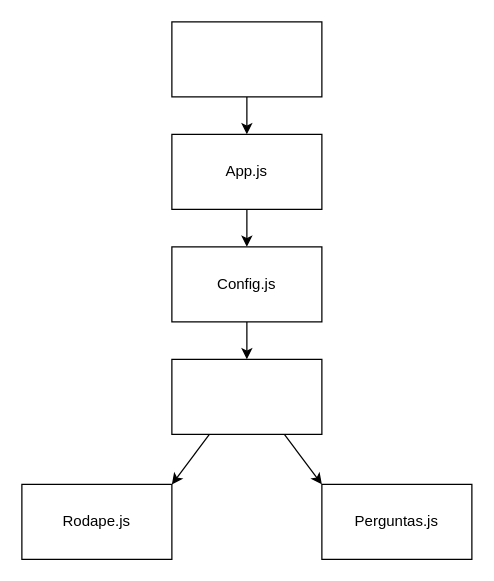
The diagram is 494 pixels wide and 581 high, and some of its shapes have lost their labels. The shapes that lost their labels are listed below. From the top down, each one's centre as x and y in pixels, then its label:
point (246, 59): Index.js
point (246, 396): PaginaZap.js
